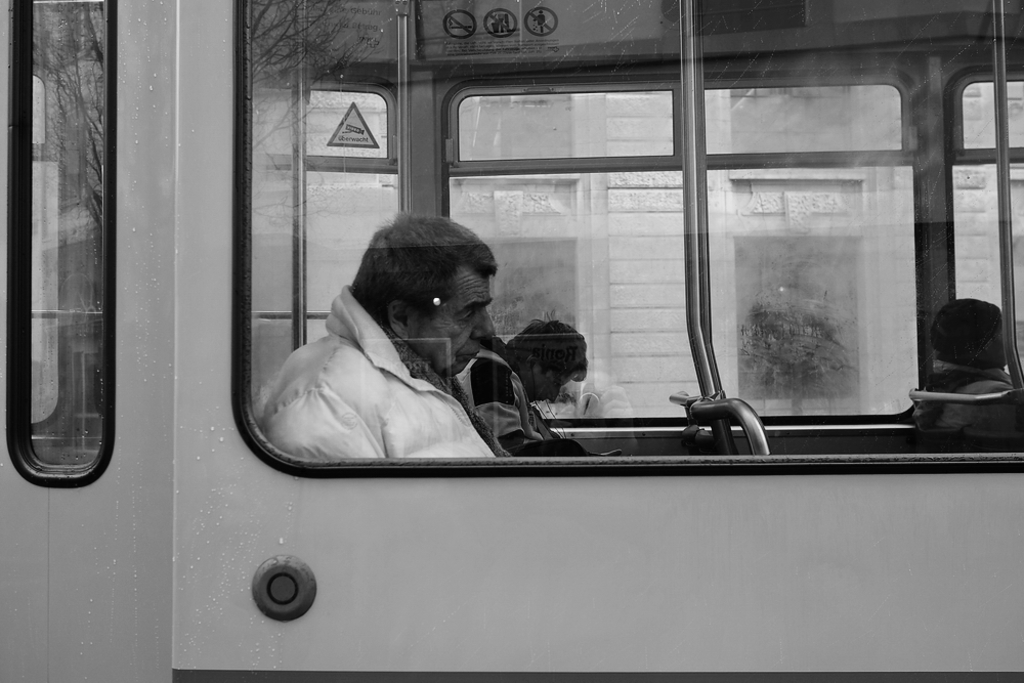Bus: (0, 0, 1019, 681)
